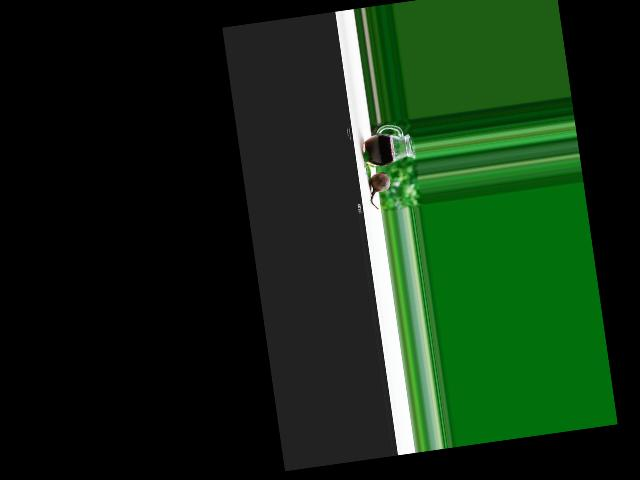beet: (366, 170, 393, 209)
